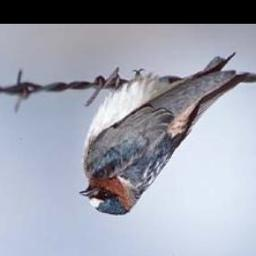Swallow: (82, 49, 250, 217)
